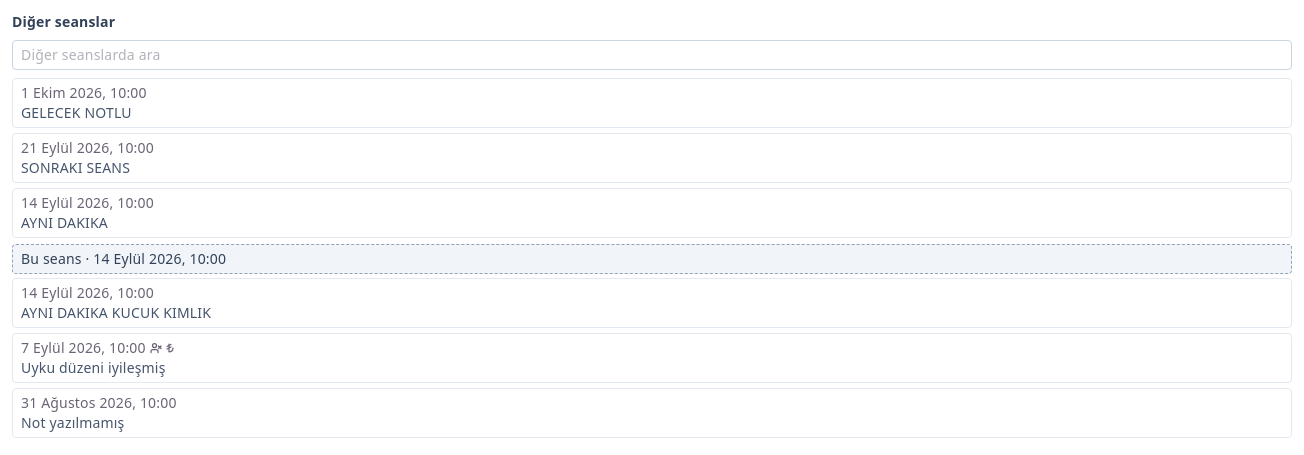
Test: DigerSeanslar (tasarım N5-N9, 2026-09-27 değişikliği) › 8.5 notu yazılmamış seans açılınca istek ATILMAZ (bakılmayan not için görüntüleme satırı yok)
Click the button "31 Ağustos 2026, 10:00 Not yazılmamış" at (99, 403), box [12,388,1292,438]
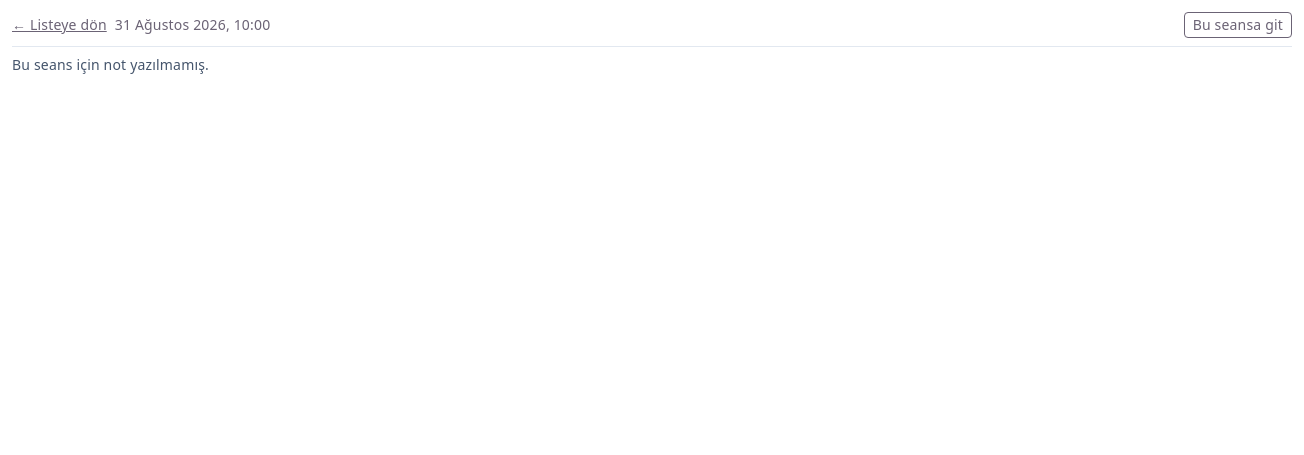
Check: the element named "Diğer seanslar" shows "Bu seans için not yazılmamış.", box [12,55,209,74]
